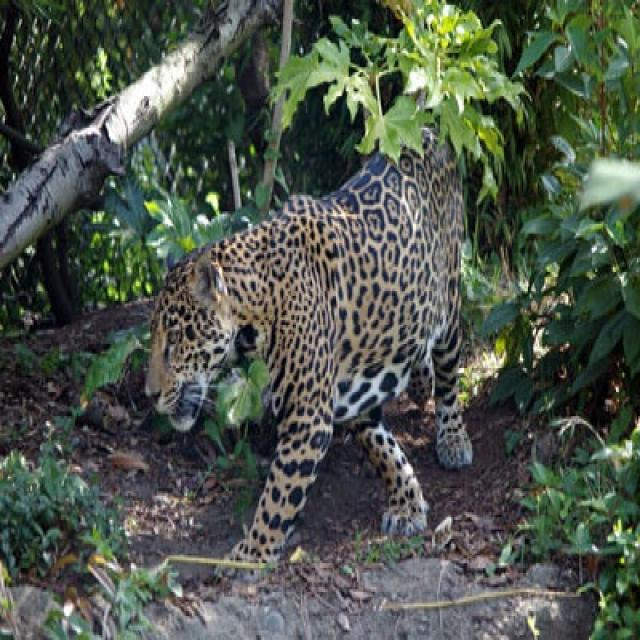Jaguar: (144, 146, 474, 562)
